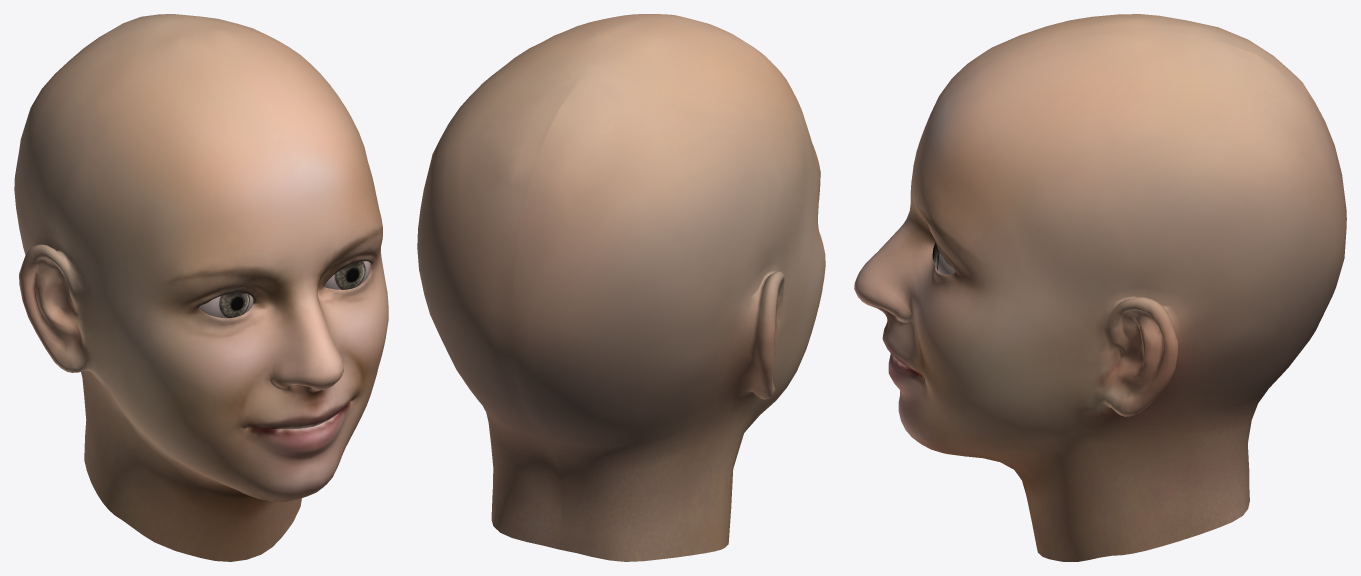
The model's file is HeadObject.fbx.
3 renders of one model, left to right at view 1: azimuth 30°, elevation 25°; view 2: azimuth 150°, elevation 25°; view 3: azimuth 270°, elevation 25°, orthographic. The views are drawn at different scales.
Parts seen in each view (by area): view 1: Head; view 2: Head; view 3: Head.
Boxes of the visible parts, x1,y1,x2,y2 form: Head: [14, 14, 388, 561]; Head: [417, 14, 825, 561]; Head: [854, 14, 1346, 561].
Bounding box in the file's own units: 0.1675 × 0.2411 × 0.2084.
Materials: 1 (1 with a texture image).
